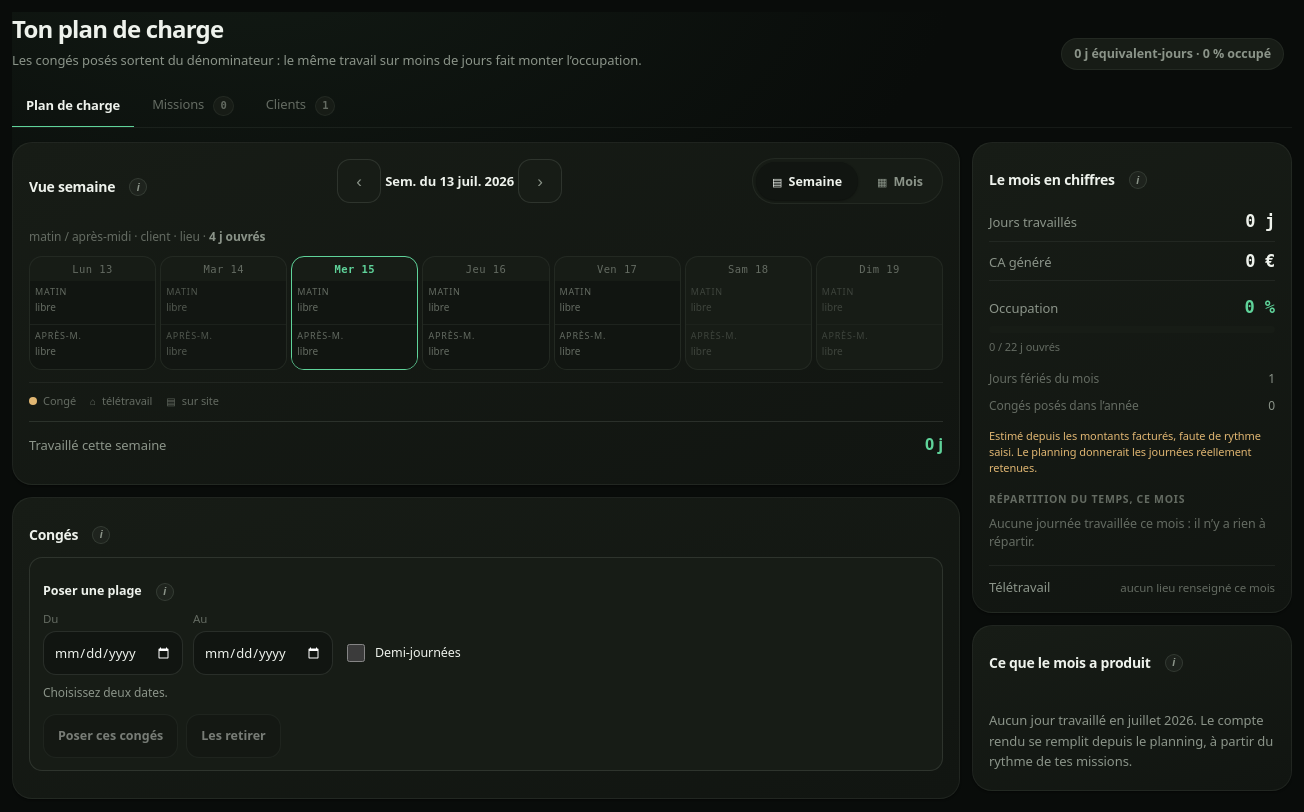
Test: carnet affiché › ne réclame aucun numéro pour un client français
Click the tab "Clients 1" at [301, 106], box [252,84,350,128]
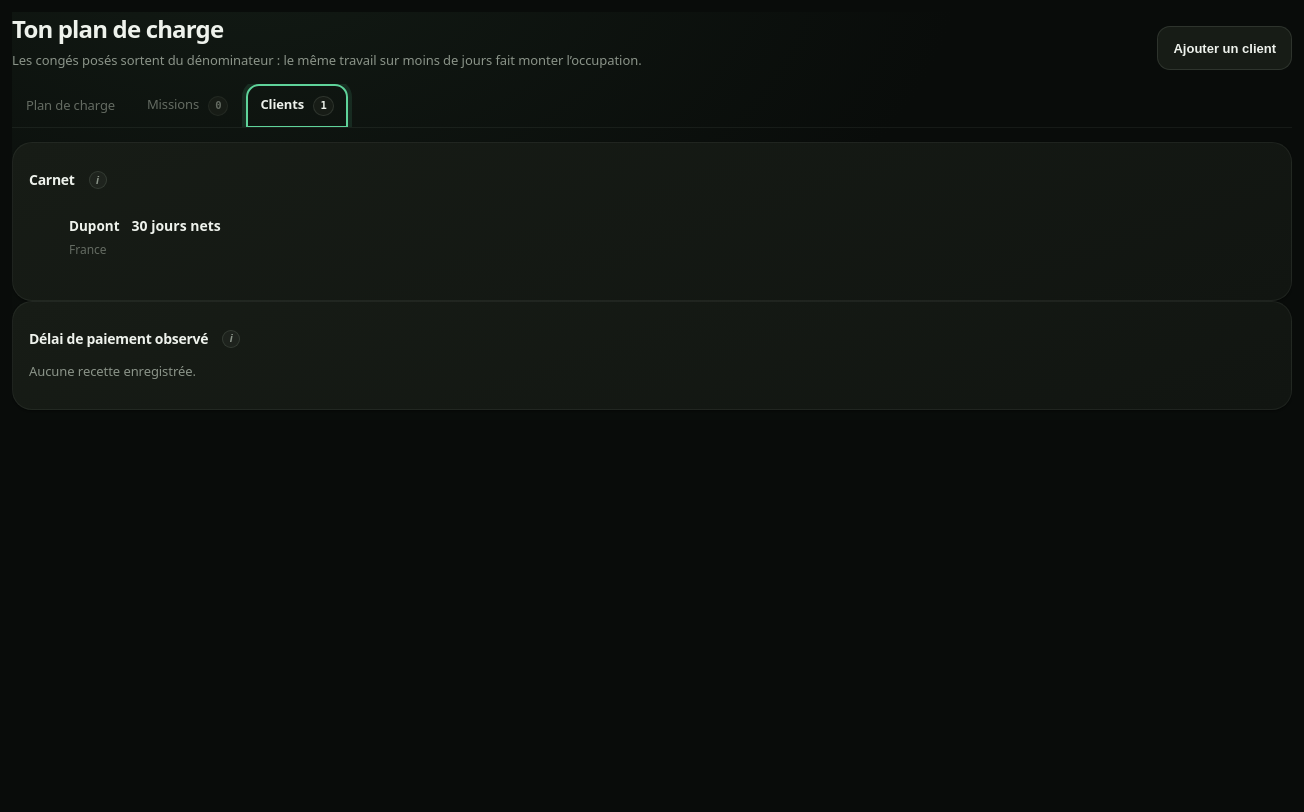
expect the heading "Carnet" is shown: met, box [29,170,75,189]
